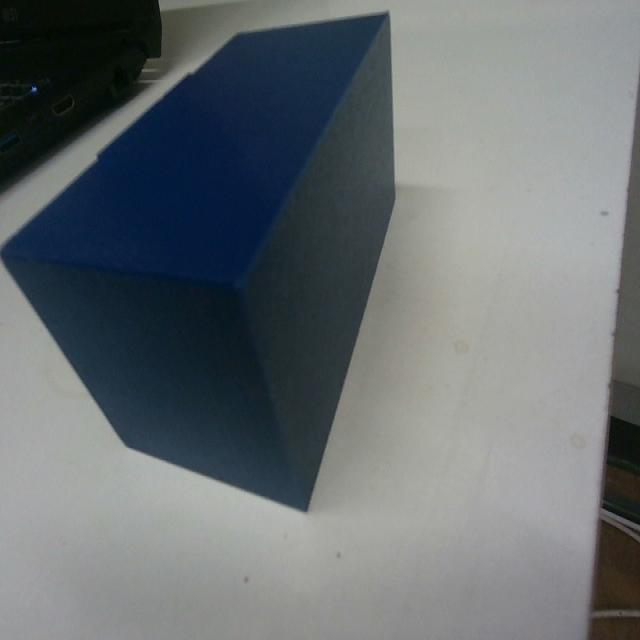Blue Cuboid: (1, 8, 398, 513)
